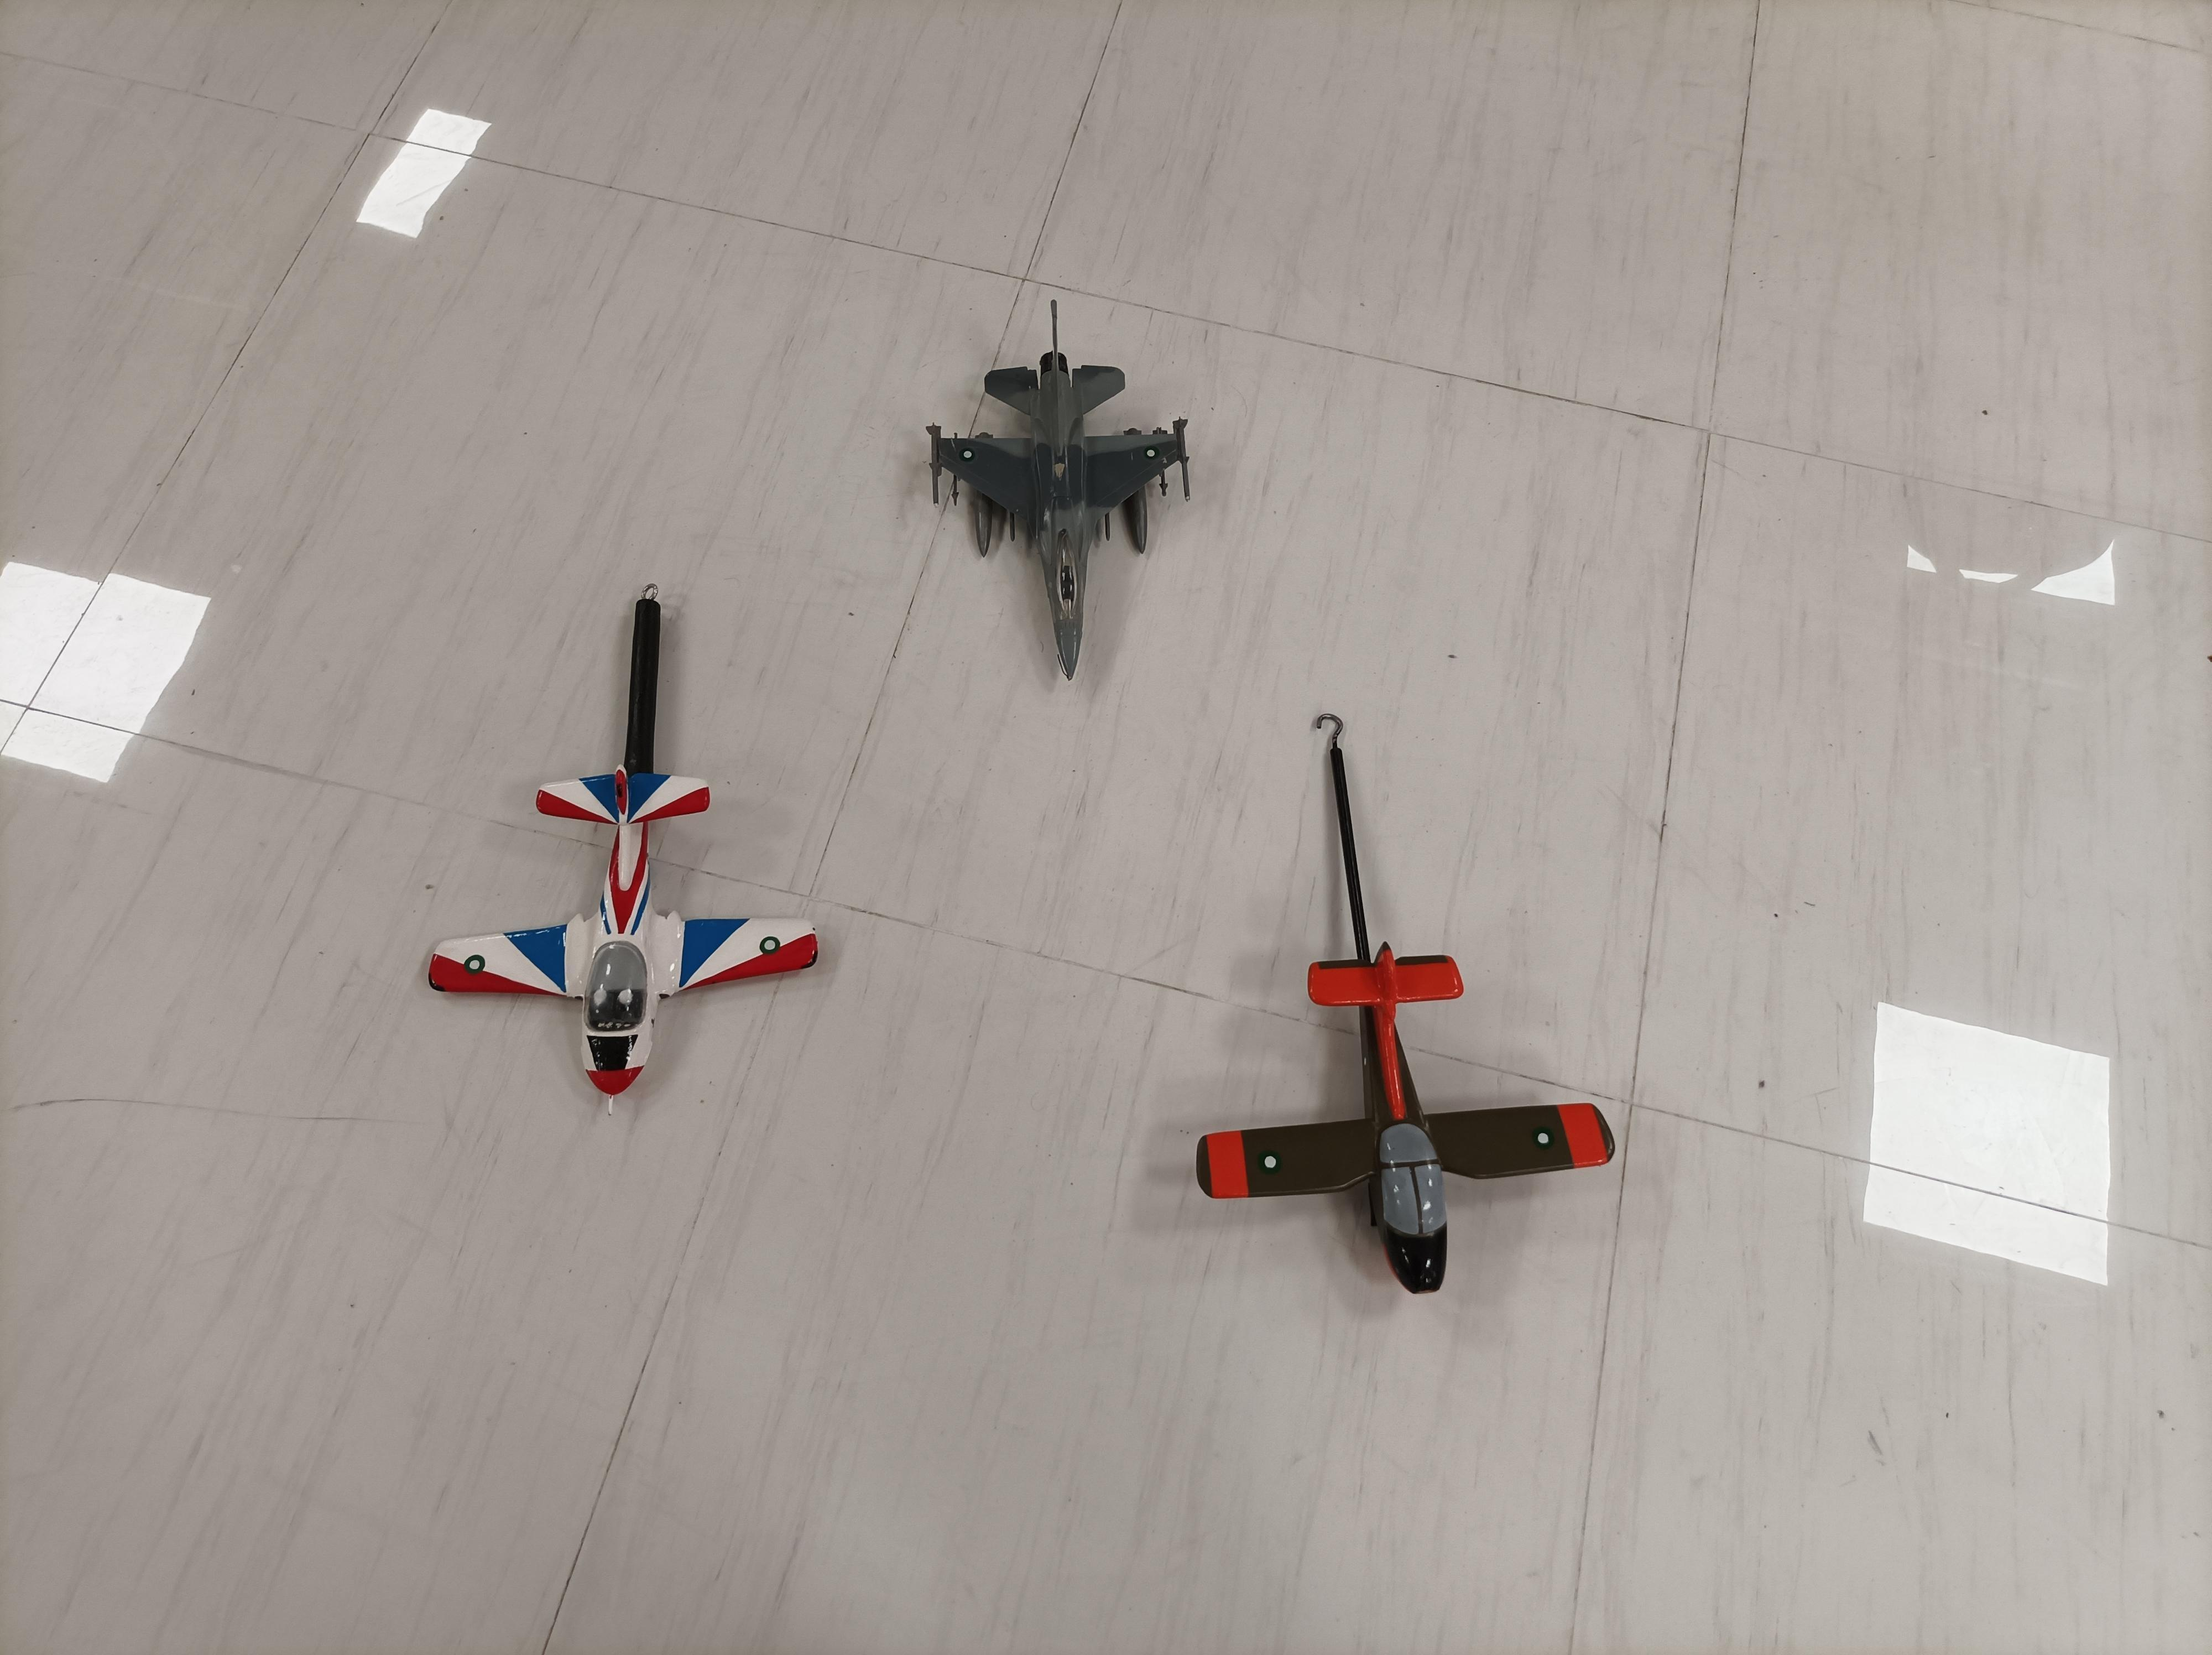Airplane: (1189, 927, 1623, 1333), (415, 730, 841, 1120), (898, 304, 1215, 697)
